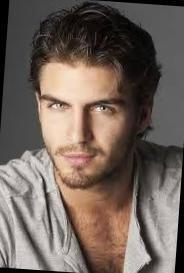Sober: (40, 65, 127, 181)
